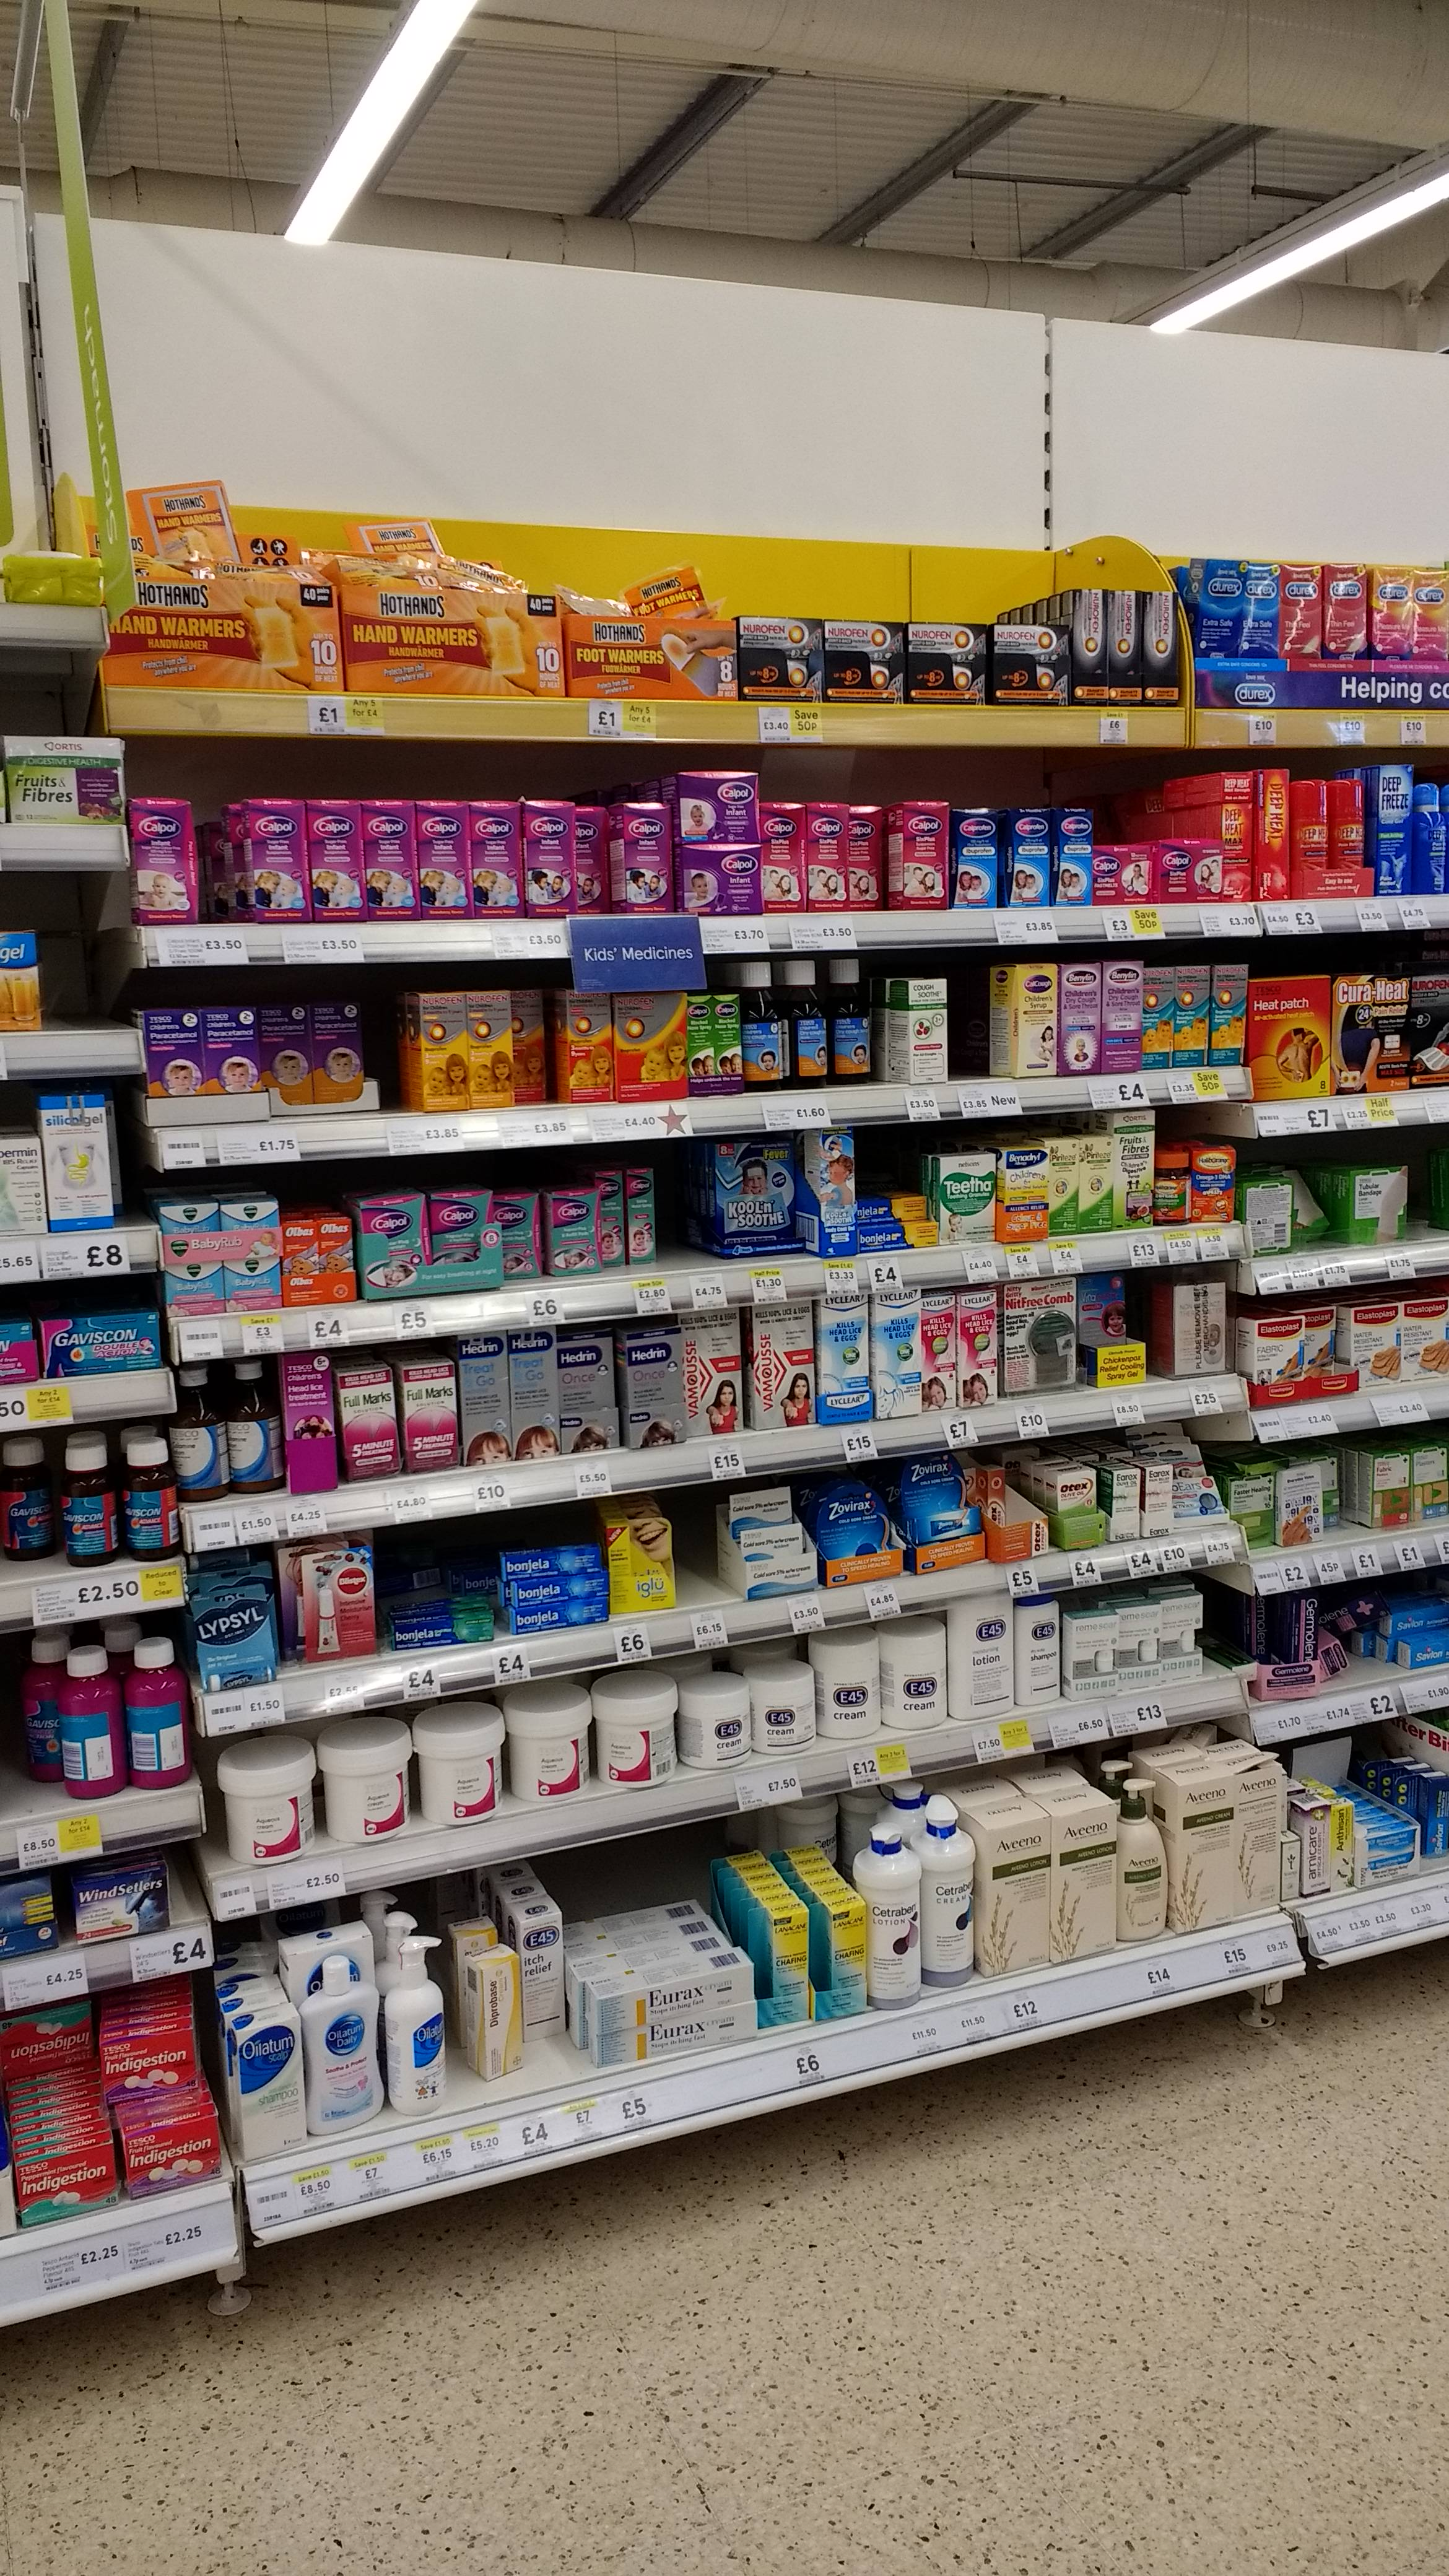Misplacement: (515, 1914, 582, 2097), (506, 987, 564, 1102)
Out-of-stock: (945, 966, 1016, 1083), (651, 1159, 718, 1279), (679, 1513, 738, 1619)
